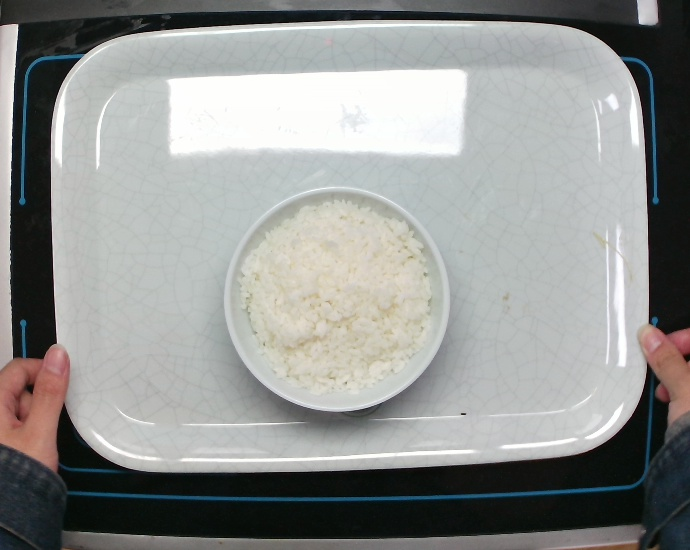JYsf-Fan_Wan: (221, 184, 452, 414)
